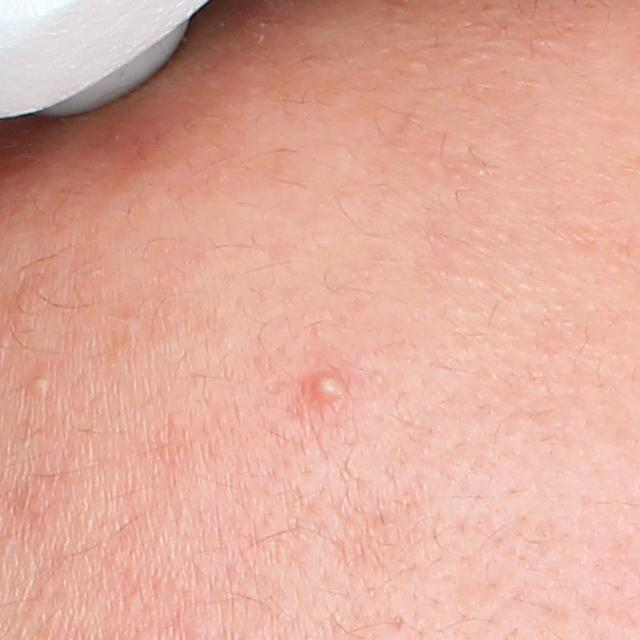comedo: (24, 369, 58, 399)
pustule: (299, 366, 350, 407)
